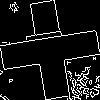I: (25, 25, 72, 46)
